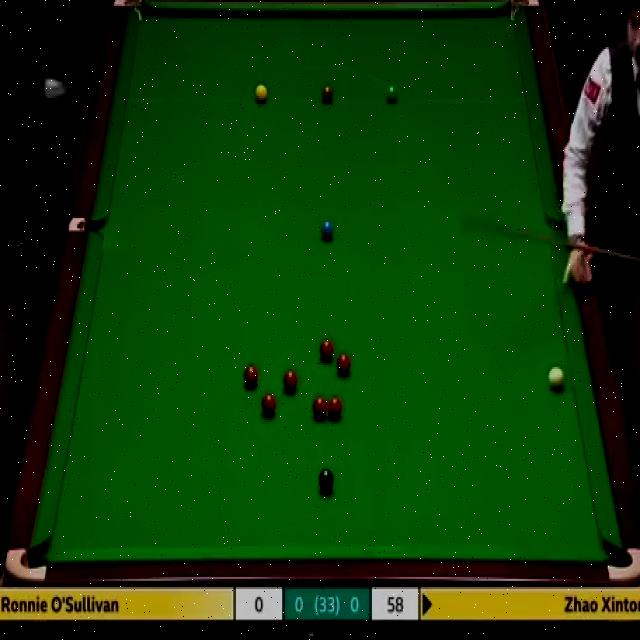black-ball: (318, 468, 334, 494)
blue-ball: (320, 220, 334, 238)
brown-ball: (320, 86, 334, 102)
green-ball: (386, 82, 401, 105)
red-ball: (310, 394, 328, 417), (328, 393, 343, 417), (320, 338, 334, 362), (284, 369, 298, 393), (262, 393, 276, 417), (244, 364, 259, 386), (336, 351, 350, 374)
white-ball: (546, 364, 565, 392)
yellow-ball: (254, 83, 268, 103)
